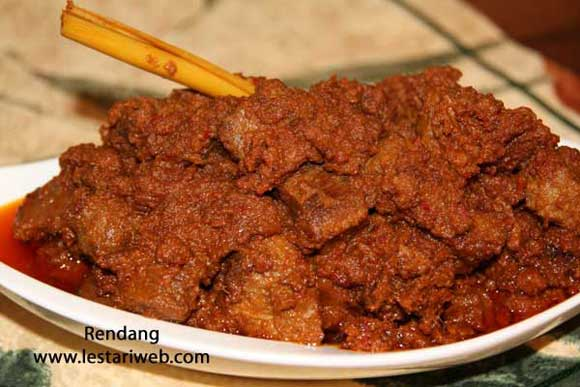rendang: (17, 49, 580, 344)
